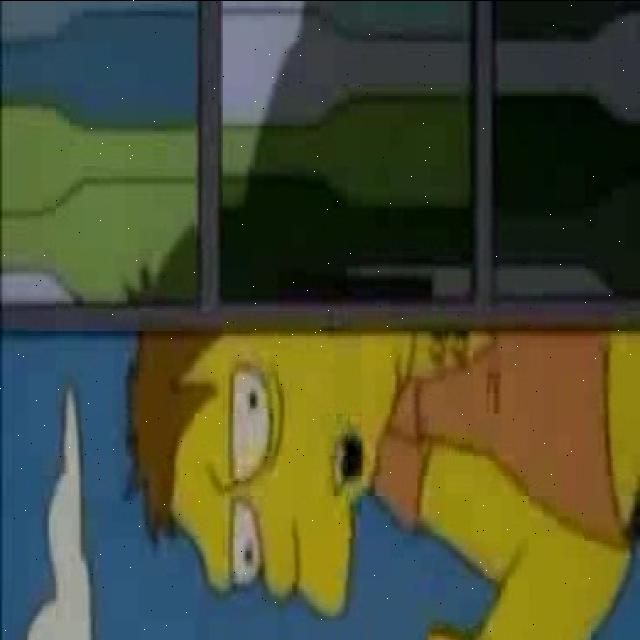Barney Gumble: (124, 330, 414, 620)
